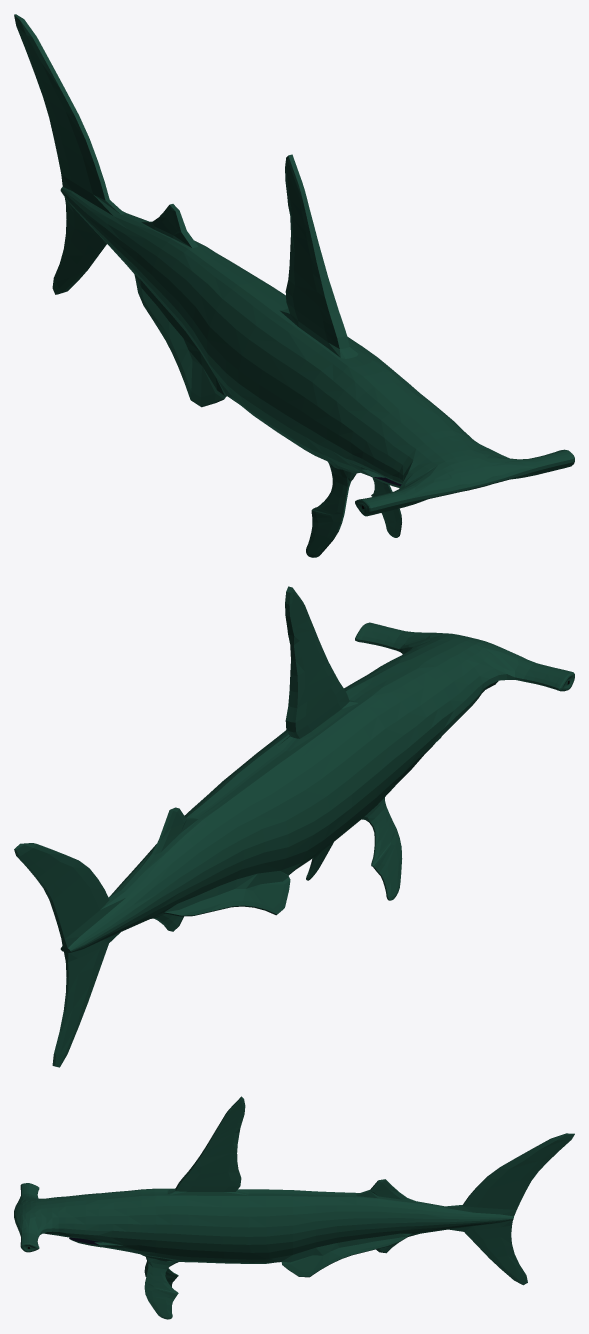
The model's file is shark.obj.
The picture shows the model from 3 angles, top to bottom: view 1: azimuth 30°, elevation 25°; view 2: azimuth 150°, elevation 25°; view 3: azimuth 270°, elevation 25°; orthographic projection. The views are drawn at different scales.
Visible parts, largest first — view 1: body, tail, dorsal, fins, ffins; view 2: body, tail, dorsal, fins, ffins; view 3: body, tail, dorsal, fins, ffins.
Boxes of the visible parts, <box> form: body: <box>104,213,574,516</box>; tail: <box>14,14,125,294</box>; dorsal: <box>285,154,349,349</box>; fins: <box>128,204,239,407</box>; ffins: <box>306,462,401,557</box>; body: <box>109,622,574,926</box>; tail: <box>14,843,136,1067</box>; dorsal: <box>285,586,349,738</box>; fins: <box>141,807,301,931</box>; ffins: <box>306,797,402,900</box>; body: <box>14,1183,447,1263</box>; tail: <box>444,1133,574,1285</box>; dorsal: <box>175,1096,245,1191</box>; fins: <box>268,1179,421,1277</box>; ffins: <box>144,1257,178,1319</box>.
Size of the model in its own units: 38.64 by 62.09 by 150.
